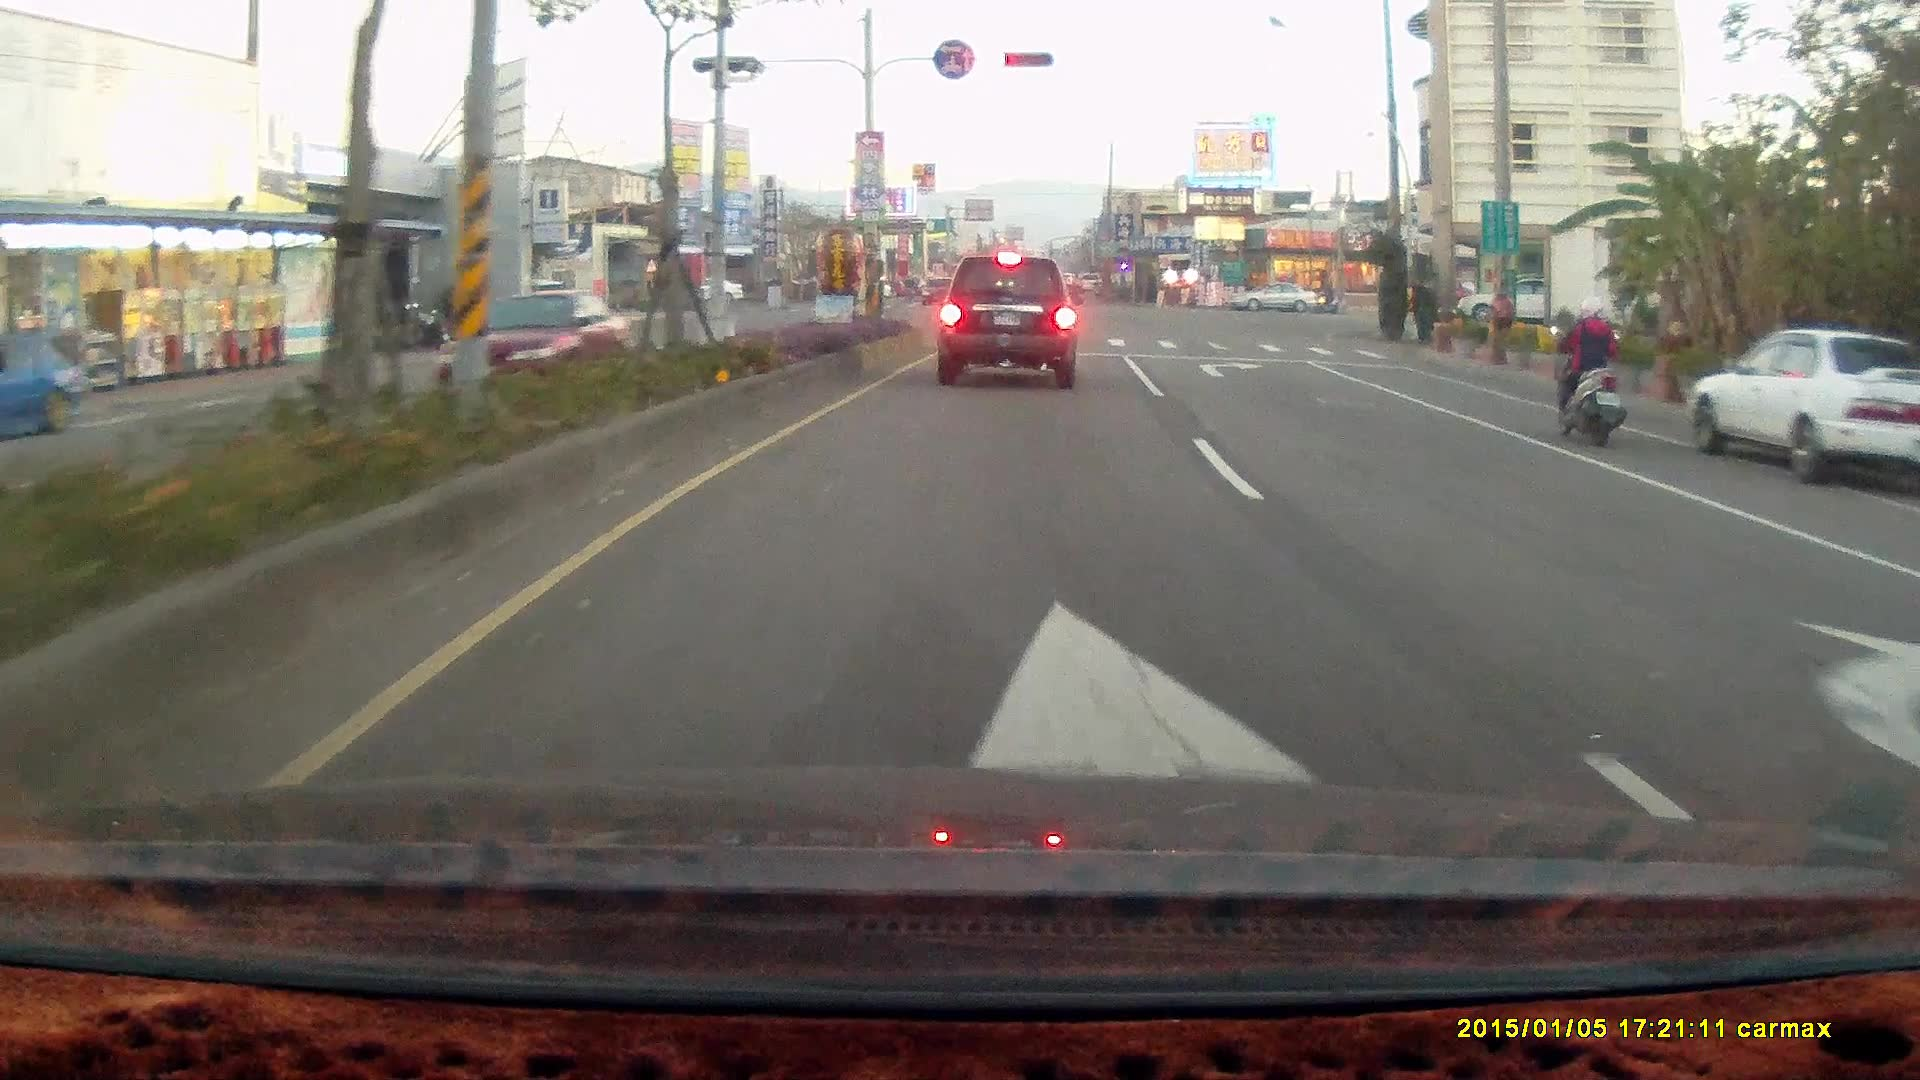rider: (1545, 295, 1627, 449), (1312, 277, 1339, 315)
vehicle: (1683, 322, 1920, 491), (1682, 327, 1920, 488), (935, 249, 1080, 386), (1896, 493, 1920, 836), (1454, 274, 1574, 328), (1883, 528, 1920, 690), (1225, 279, 1321, 317), (1225, 280, 1315, 313)
